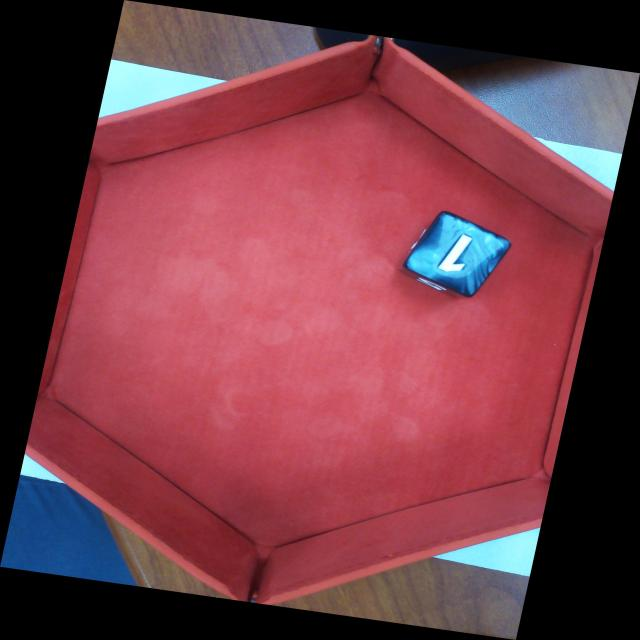dice: (404, 215, 497, 297)
